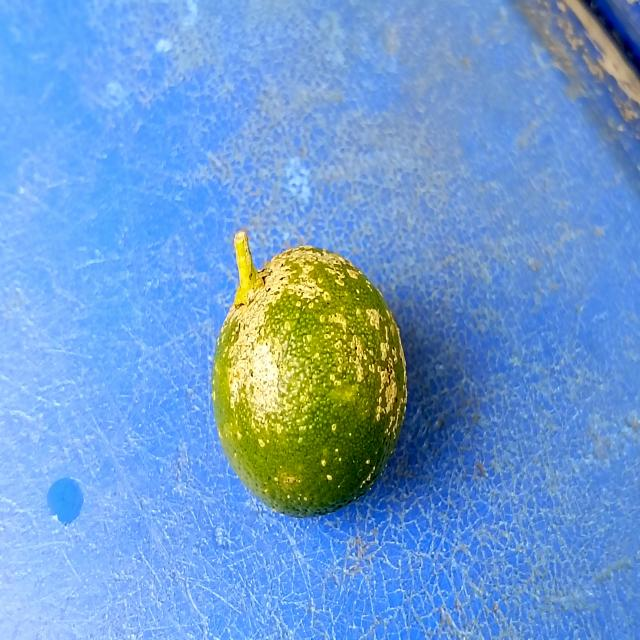scab: (208, 243, 411, 523)
